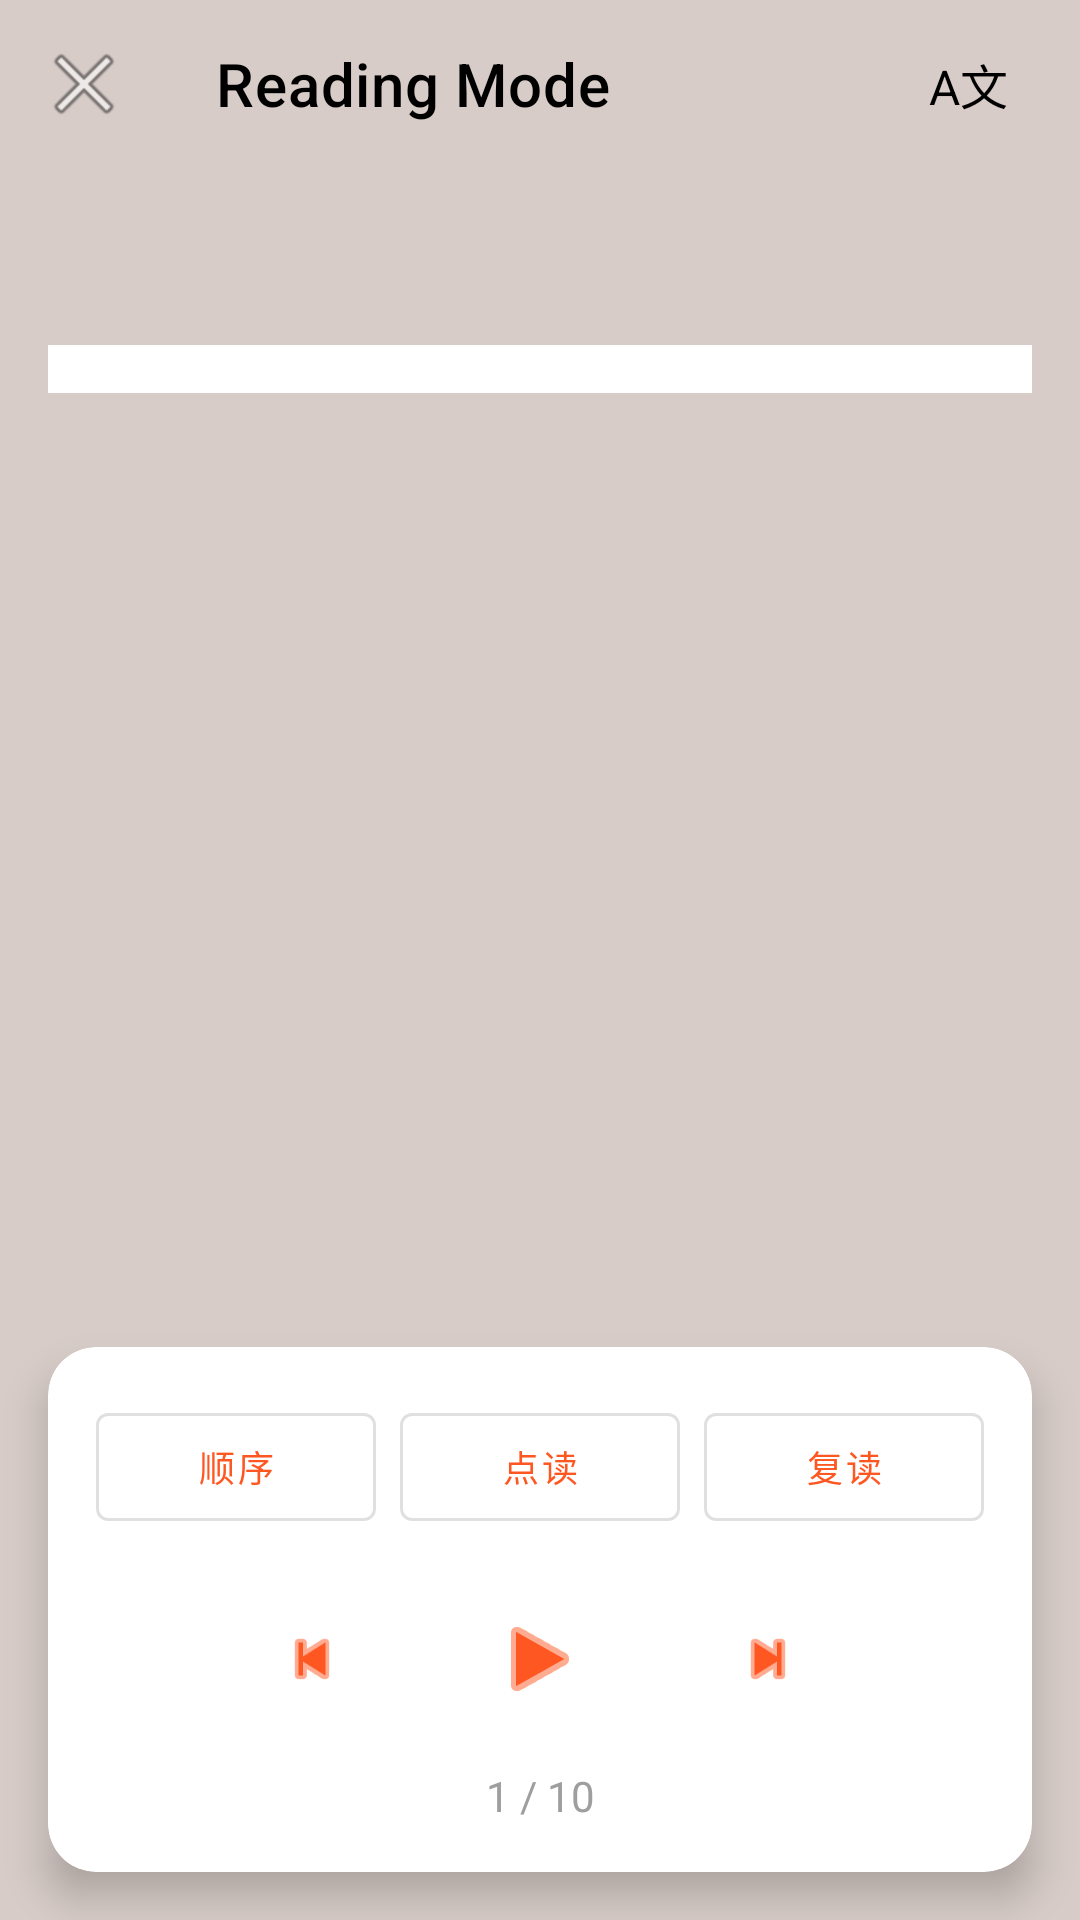

Icon click points for this 1080px×1920px phone screenshot, format point (x, y):
Next: point (768, 1659)
Play/Pause: point (540, 1659)
Previous: point (312, 1659)
